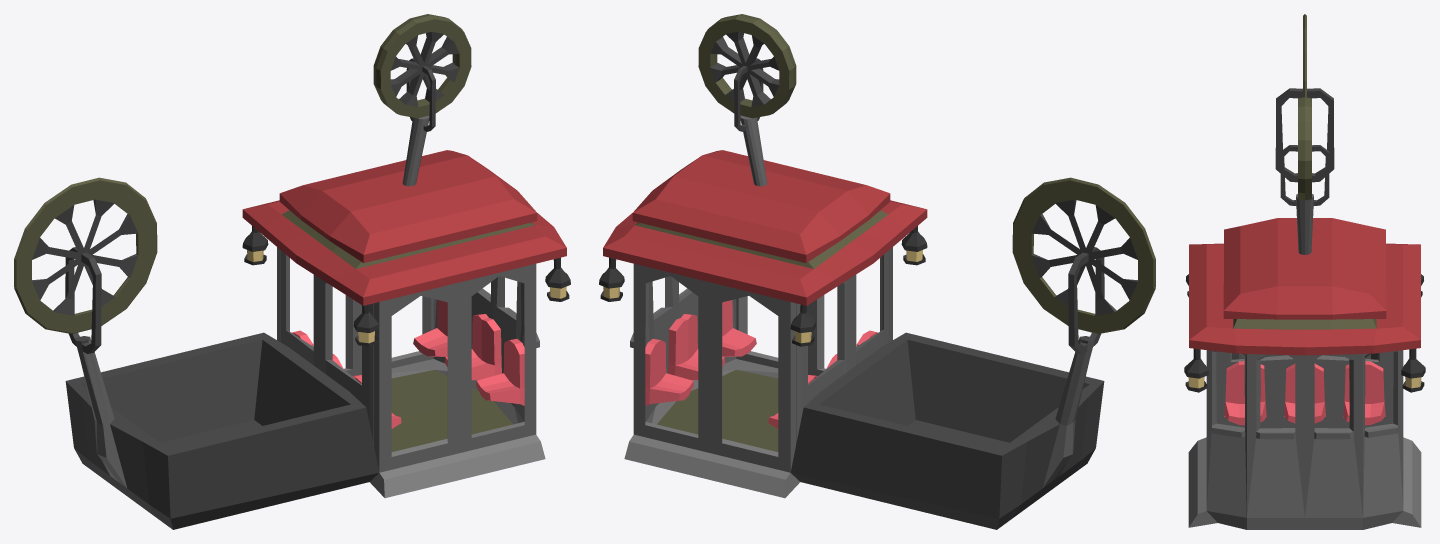
File: teleferix.fbx
The picture shows the model from 3 angles, left to right: view 1: azimuth 30°, elevation 25°; view 2: azimuth 150°, elevation 25°; view 3: azimuth 270°, elevation 25°; orthographic projection. The views are drawn at different scales.
Parts seen in each view (by area): view 1: Cube; view 2: Cube; view 3: Cube.
Part boxes in pixels (x1,y1,x2,y2): Cube: [14, 14, 570, 529]; Cube: [599, 14, 1155, 529]; Cube: [1184, 14, 1425, 529].
Size of the model in its own units: 7.22 by 5.6 by 3.09.
